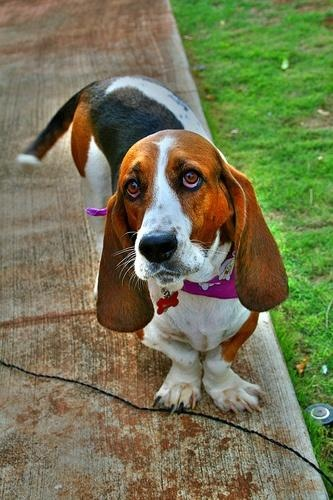dog: (18, 76, 291, 415)
